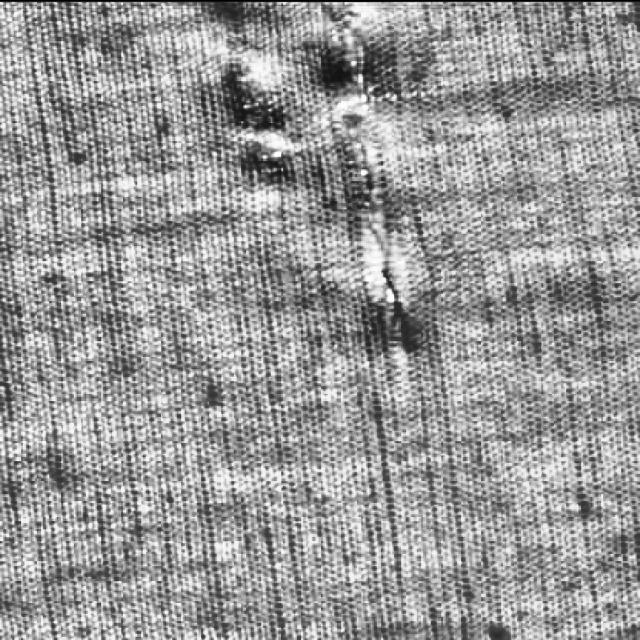thread_error: (317, 1, 420, 406), (216, 2, 315, 198)
